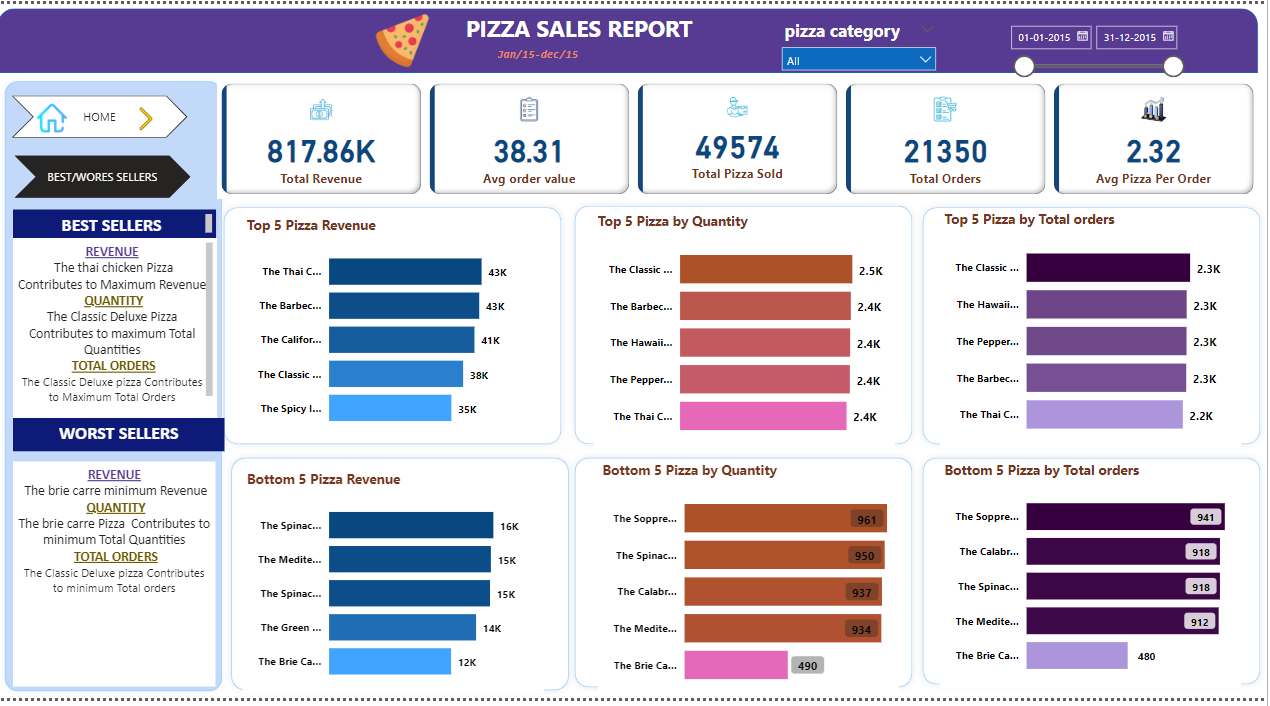

The page's visual inventory and layout, read from the dashboard file:
{"tool":"powerbi","page":{"name":"BEST/WORES SELLERS","canvas":[1500,820],"ordinal":1},"visuals":[{"type":"shape","box":[0,82.9,272.9,737.1],"z":0},{"type":"cardVisual","fields":{"Data":["pizza_sales.Total Revenue","pizza_sales.Avg order value","pizza_sales.Total Pizza Sold","pizza_sales.Total Orders","pizza_sales.Avg Pizza Per Order"]},"box":[258.3,88.3,1231.7,141.7],"z":1000},{"type":"shape","box":[0,5.5,1489.1,76.4],"z":2000},{"type":"textbox","box":[547.3,5.5,325.5,61.8],"z":3000},{"type":"textbox","box":[584.8,43.9,157.6,45.5],"z":4000},{"type":"image","box":[433.3,6.1,90.9,75.8],"z":5000},{"type":"shape","box":[258.9,232.3,414.9,296.1],"z":6000},{"type":"textbox","box":[17.1,242.9,240,34.3],"z":16000},{"type":"textbox","box":[17.7,276.6,241.1,212.8],"z":17000},{"type":"textbox","box":[17.7,540.8,239.4,266],"z":18000},{"type":"textbox","box":[17.7,489.4,250,39],"z":19000},{"type":"slicer","fields":{"Values":["pizza_sales.pizza_category"]},"box":[916.7,12.4,202.1,69.1],"z":20000},{"type":"slicer","fields":{"Values":["pizza_sales.order_date"]},"box":[1185.2,15.2,225.8,73.8],"z":21000},{"type":"shape","box":[673.8,230.5,414.9,297.9],"z":21001},{"type":"shape","box":[1085.1,232.3,414.9,296.1],"z":21002},{"type":"shape","box":[1085.1,528.4,414.9,283.7],"z":21003},{"type":"shape","box":[673.8,528.4,414.9,287.2],"z":21004},{"type":"shape","box":[267.7,528.4,414.9,290.8],"z":21005},{"type":"barChart","title":"Top 5 Pizza Revenue ","fields":{"Category":["pizza_sales.pizza_name"],"Y":["pizza_sales.Total Revenue"]},"box":[288.7,249.6,356,264.8],"z":21006},{"type":"barChart","title":"Bottom 5 Pizza Revenue ","fields":{"Category":["pizza_sales.pizza_name"],"Y":["pizza_sales.Total Revenue"]},"box":[288.7,549.2,356,264.8],"z":21007},{"type":"barChart","title":"Top 5 Pizza by Quantity ","fields":{"Category":["pizza_sales.pizza_name"],"Y":["pizza_sales.Total Pizza Sold"]},"box":[703.3,245.3,356,282.2],"z":21008},{"type":"barChart","title":"Bottom 5 Pizza by Quantity ","fields":{"Category":["pizza_sales.pizza_name"],"Y":["pizza_sales.Total Pizza Sold"]},"box":[709.8,538.4,356,282.2],"z":21009},{"type":"barChart","title":"Top 5 Pizza by Total orders","fields":{"Category":["pizza_sales.pizza_name"],"Y":["pizza_sales.Total Orders"]},"box":[1113.6,243.1,356,282.2],"z":21010},{"type":"barChart","title":"Bottom 5 Pizza by Total orders","fields":{"Category":["pizza_sales.pizza_name"],"Y":["pizza_sales.Total Orders"]},"box":[1113.6,538.4,356,269.2],"z":21011},{"type":"pageNavigator","box":[16.7,108.3,208.3,50],"z":21012},{"type":"pageNavigator","box":[18.8,179.2,208.3,50],"z":21013},{"type":"image","box":[40.8,109.2,45.4,50],"z":21014},{"type":"image","box":[153.8,116.2,41.5,36.9],"z":21015}]}

Visuals, with their boxes in screenshot pixels (x1, y1, x2, y2), scaled from the page's 1500x820 canvas onto the 1270x706 screenshot:
shape: [0, 71, 231, 705]
cardVisual - pizza_sales.Total Revenue x pizza_sales.Avg order value: [219, 76, 1262, 198]
shape: [0, 5, 1261, 71]
textbox: [463, 5, 739, 58]
textbox: [495, 38, 629, 77]
image: [367, 5, 444, 71]
shape: [219, 200, 570, 455]
textbox: [14, 209, 218, 239]
textbox: [15, 238, 219, 421]
textbox: [15, 466, 218, 695]
textbox: [15, 421, 227, 455]
slicer - pizza_sales.pizza_category: [776, 11, 947, 70]
slicer - pizza_sales.order_date: [1003, 13, 1195, 77]
shape: [570, 198, 922, 455]
shape: [919, 200, 1269, 455]
shape: [919, 455, 1269, 699]
shape: [570, 455, 922, 702]
shape: [227, 455, 578, 705]
"Top 5 Pizza Revenue " barChart: [244, 215, 546, 443]
"Bottom 5 Pizza Revenue " barChart: [244, 473, 546, 701]
"Top 5 Pizza by Quantity " barChart: [595, 211, 897, 454]
"Bottom 5 Pizza by Quantity " barChart: [601, 464, 902, 705]
"Top 5 Pizza by Total orders" barChart: [943, 209, 1244, 452]
"Bottom 5 Pizza by Total orders" barChart: [943, 464, 1244, 695]
pageNavigator: [14, 93, 190, 136]
pageNavigator: [16, 154, 192, 197]
image: [35, 94, 73, 137]
image: [130, 100, 165, 132]
